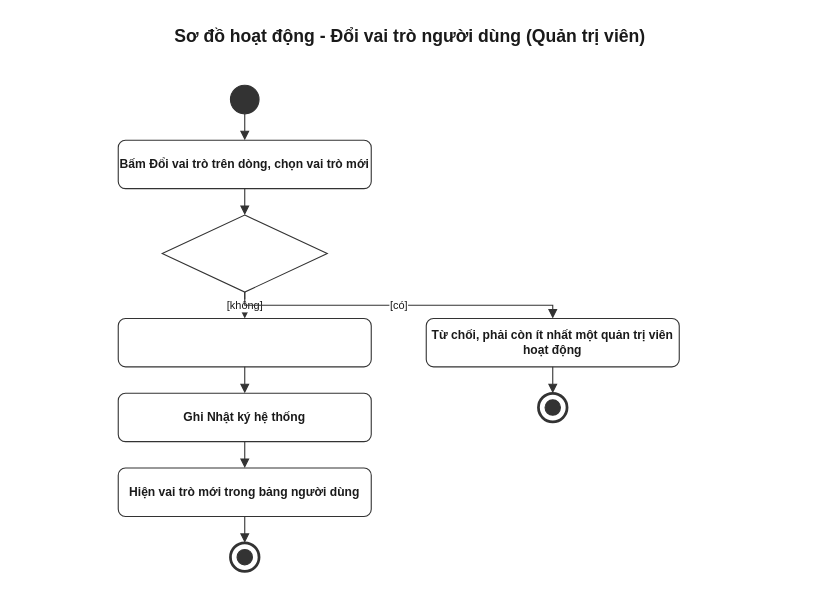
This 818x592 diagram has some shape labels left out. Each missing label, with the centre of its shape:
"Cập nhật vai trò và xoá cache quyền" goes at (244,342).
"Hạ vai trò của quản trị viên hoạt động cuối cùng?" goes at (244,253).
